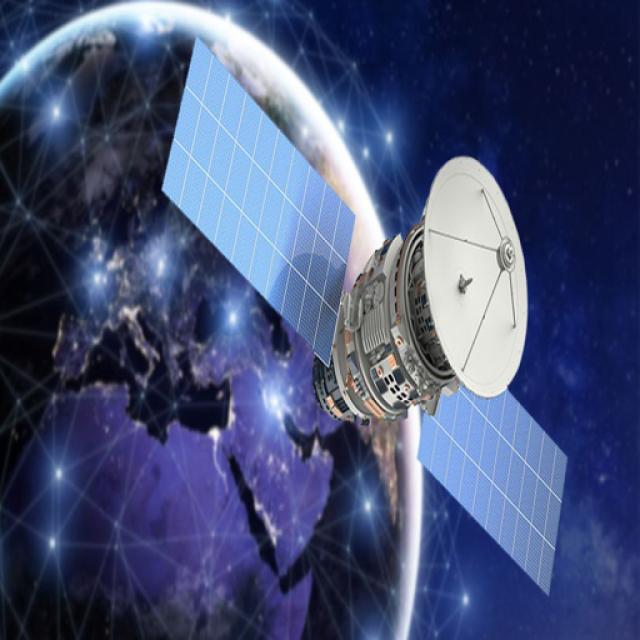medium_debris: (158, 39, 576, 594)
